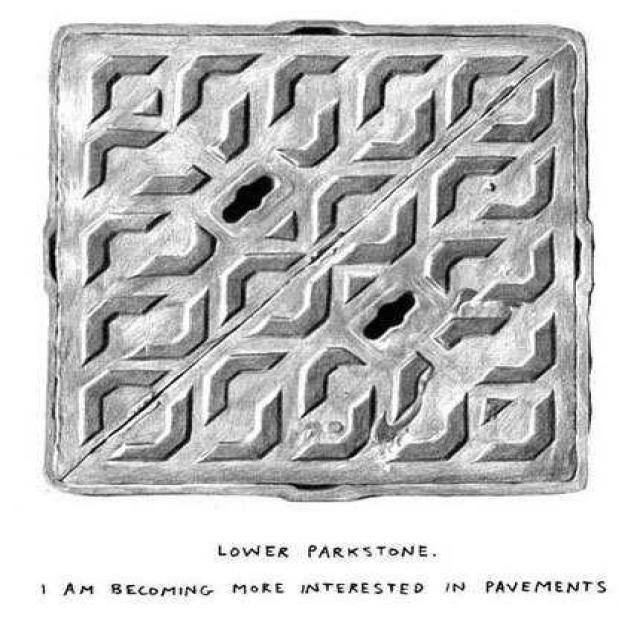manhole: (48, 22, 590, 499)
